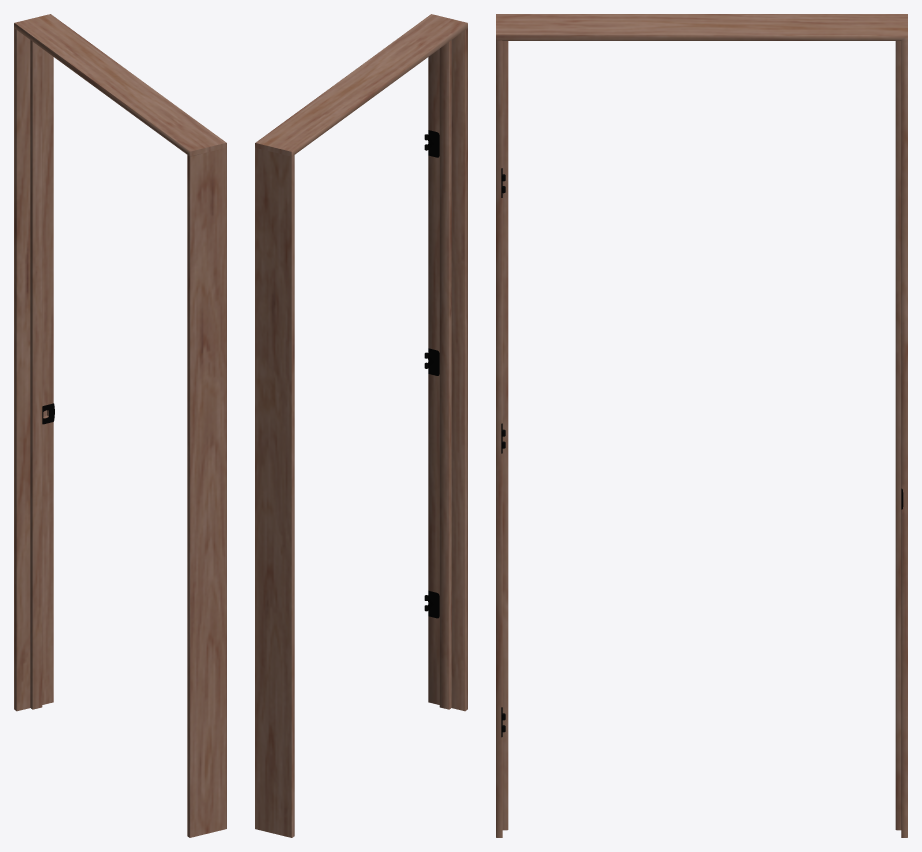
Rendered from visual_Door_right_frame_one_panel_wood_dark.dae.
The picture shows the model from 3 angles, left to right: view 1: azimuth 30°, elevation 25°; view 2: azimuth 150°, elevation 25°; view 3: azimuth 270°, elevation 25°; orthographic projection. The views are drawn at different scales.
Visible parts, largest first — view 1: visual_Door_right_frame_one_panel_wood_dark; view 2: visual_Door_right_frame_one_panel_wood_dark; view 3: visual_Door_right_frame_one_panel_wood_dark.
Boxes of the visible parts, x1,y1,x2,y2 form: visual_Door_right_frame_one_panel_wood_dark: (14, 14, 226, 837); visual_Door_right_frame_one_panel_wood_dark: (255, 14, 467, 837); visual_Door_right_frame_one_panel_wood_dark: (496, 14, 907, 837).
Size of the model in its own units: 0.1248 by 0.9521 by 2.05.
Materials: 1 (1 with a texture image).
